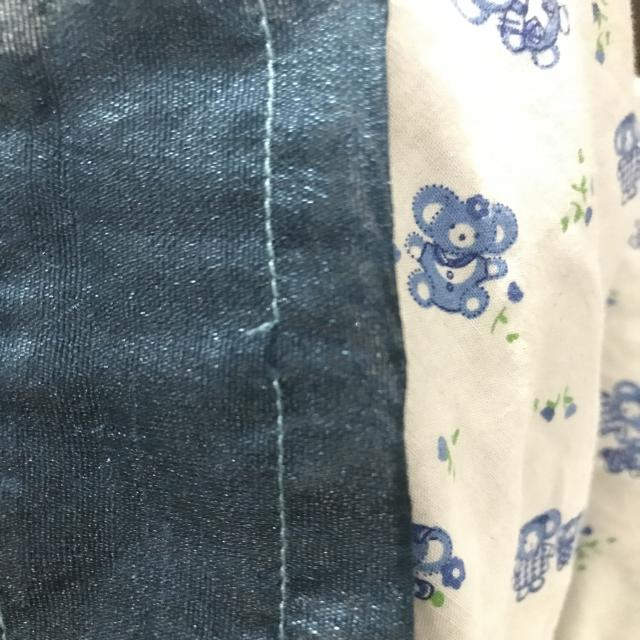broken: (202, 281, 314, 433)
good: (235, 113, 294, 257), (260, 472, 300, 599)
